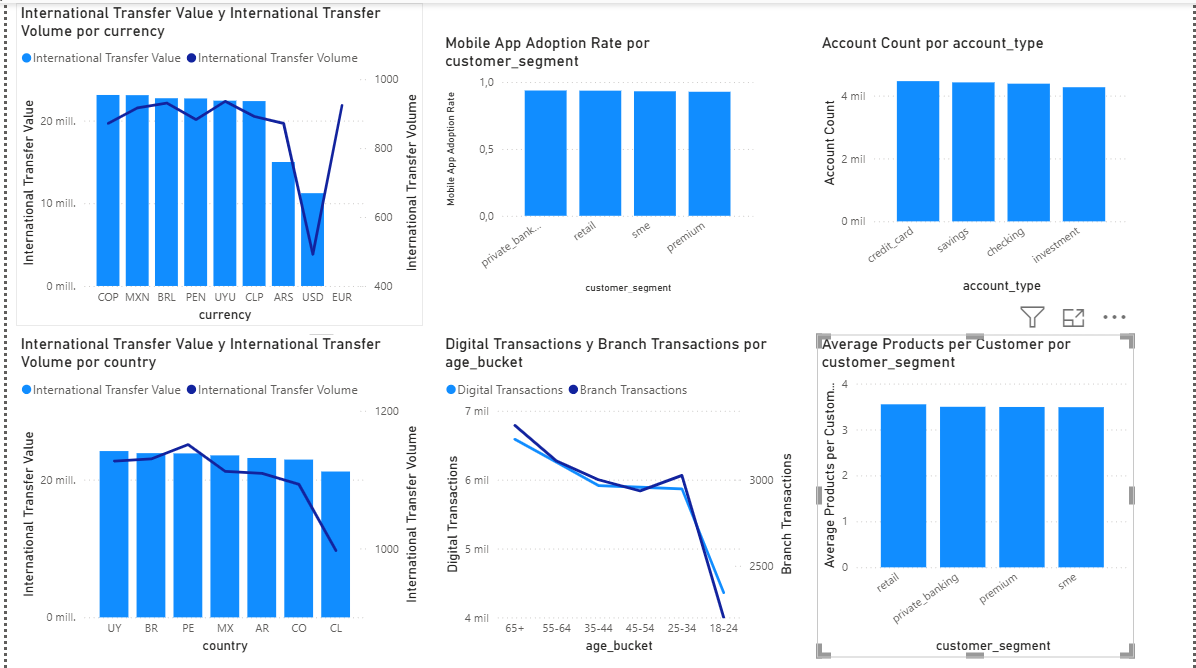

The page's visual inventory and layout, read from the dashboard file:
{"tool":"powerbi","page":{"name":"Página 4","canvas":[1280,720],"ordinal":3},"visuals":[{"type":"lineStackedColumnComboChart","fields":{"Y":["gold fact_transactions.International Transfer Value"],"Y2":["gold fact_transactions.International Transfer Volume"],"Category":["gold fact_transactions.currency"]},"box":[9.7,0,438.8,348.1],"z":0},{"type":"lineStackedColumnComboChart","fields":{"Y":["gold fact_transactions.International Transfer Value"],"Y2":["gold fact_transactions.International Transfer Volume"],"Category":["gold dim_customer.country"]},"box":[10,358,439,348],"z":1000},{"type":"clusteredColumnChart","fields":{"Y":["gold fact_transactions.Mobile App Adoption Rate"],"Category":["gold dim_customer.customer_segment"]},"box":[468,32.4,343.3,285],"z":2000},{"type":"lineChart","fields":{"Y":["gold fact_transactions.Digital Transactions"],"Y2":["gold fact_transactions.Branch Transactions"],"Category":["gold dim_customer.age_bucket"]},"box":[468,357.8,385.4,348.1],"z":3000},{"type":"clusteredColumnChart","fields":{"Y":["gold dim_accounts.Account Count"],"Category":["gold dim_accounts.account_type"]},"box":[874.4,32.4,341.7,285],"z":4000},{"type":"clusteredColumnChart","fields":{"Y":["gold dim_customer.Average Products per Customer"],"Category":["gold dim_customer.customer_segment"]},"box":[874,358,342,348],"z":4001}]}

Visuals, with their boxes in screenshot pixels (x1, y1, x2, y2), scaled from the page's 1280x720 canvas onto the 1196x668 screenshot:
lineStackedColumnComboChart - gold fact_transactions.International Transfer Value x gold fact_transactions.International Transfer Volume: Rect(9, 0, 419, 323)
lineStackedColumnComboChart - gold fact_transactions.International Transfer Value x gold fact_transactions.International Transfer Volume: Rect(9, 332, 420, 655)
clusteredColumnChart - gold fact_transactions.Mobile App Adoption Rate x gold dim_customer.customer_segment: Rect(437, 30, 758, 294)
lineChart - gold fact_transactions.Digital Transactions x gold fact_transactions.Branch Transactions: Rect(437, 332, 797, 655)
clusteredColumnChart - gold dim_accounts.Account Count x gold dim_accounts.account_type: Rect(817, 30, 1136, 294)
clusteredColumnChart - gold dim_customer.Average Products per Customer x gold dim_customer.customer_segment: Rect(817, 332, 1136, 655)
